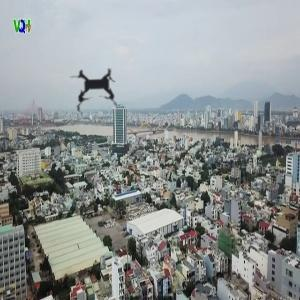drone: (51, 43, 144, 136)
